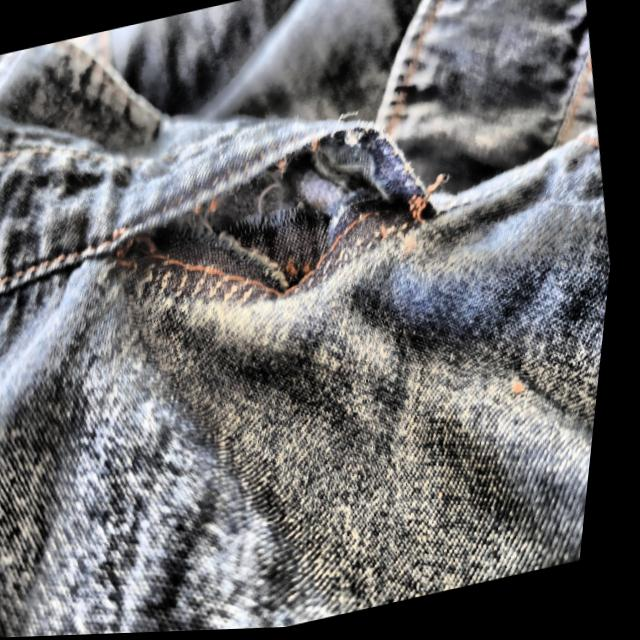seam: (97, 96, 458, 343)
